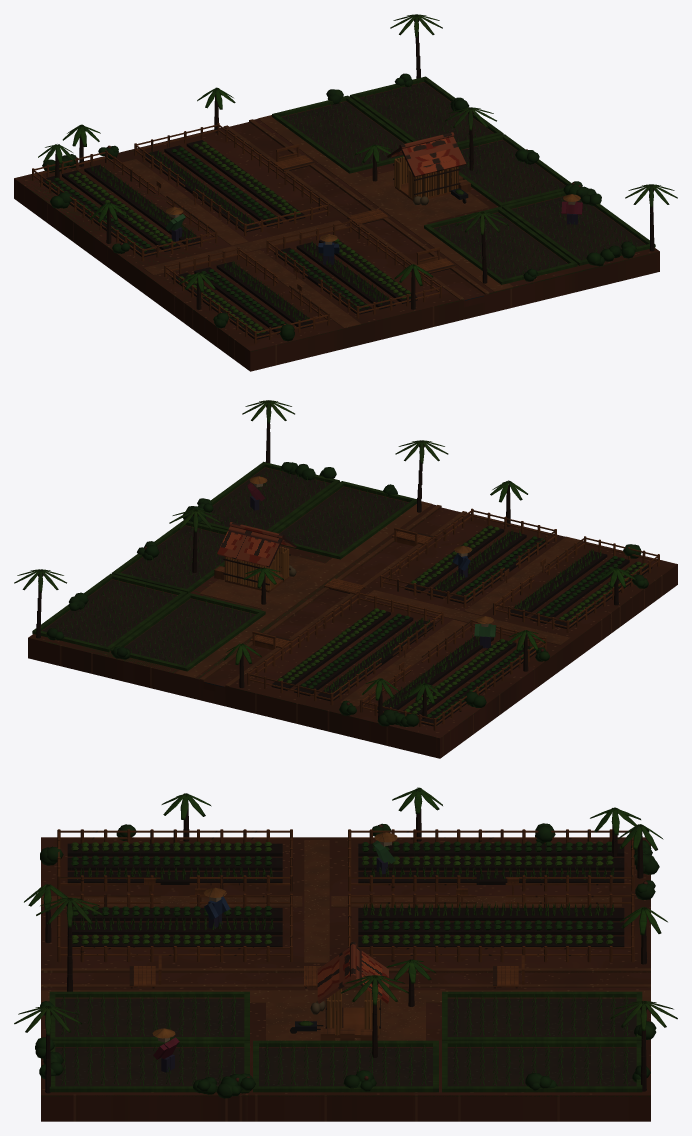
The model's file is Lahan.fbx.
3 views of the same model, one above another, from view 1: azimuth 30°, elevation 25°; view 2: azimuth 150°, elevation 25°; view 3: azimuth 270°, elevation 25° (orthographic). The views are drawn at different scales.
Parts seen in each view (by area): view 1: L_BaseW.001, L_BaseE.001, L_Paddy3.001, L_Paddy0.001, L_Paddy1.001, L_Paddy4.001, L_Paddy2.001, L_CanalBed.001, L_Bushes.001, L_PathMain.001, L_GardenNE_Fence.001, L_GardenNW_Fence.001 (+34 smaller); view 2: L_BaseW.001, L_BaseE.001, L_Paddy0.001, L_Paddy3.001, L_Paddy1.001, L_Paddy4.001, L_Paddy2.001, L_CanalBed.001, L_Bushes.001, L_PathMain.001, L_GardenNE_Fence.001, L_GardenSE_Fence.001 (+32 smaller); view 3: L_BaseW.001, L_BaseE.001, L_Paddy1.001, L_Paddy0.001, L_Paddy3.001, L_Paddy2.001, L_Paddy4.001, L_CanalBed.001, L_Bushes.001, L_GardenNE_Bed0.001, L_HutYard.001, L_GardenNW_Fence.001 (+45 smaller).
Boxes of the visible parts, x1,y1,x2,y2 form: L_BaseW.001: (14, 127, 463, 371); L_BaseE.001: (249, 82, 659, 314); L_Paddy3.001: (424, 207, 577, 284); L_Paddy0.001: (272, 95, 411, 173); L_Paddy1.001: (350, 76, 503, 145); L_Paddy4.001: (502, 191, 655, 265); L_Paddy2.001: (458, 134, 571, 207); L_CanalBed.001: (229, 122, 485, 307); L_Bushes.001: (42, 73, 636, 341); L_PathMain.001: (257, 115, 513, 291); L_GardenNE_Fence.001: (134, 123, 329, 236); L_GardenNW_Fence.001: (32, 150, 217, 261); L_BaseW.001: (225, 512, 677, 758); L_BaseE.001: (28, 467, 441, 700); L_Paddy0.001: (111, 593, 265, 671); L_Paddy3.001: (272, 481, 416, 559); L_Paddy1.001: (32, 573, 186, 652); L_Paddy4.001: (199, 461, 339, 531); L_Paddy2.001: (111, 520, 227, 593); L_CanalBed.001: (203, 507, 460, 693); L_Bushes.001: (46, 462, 648, 726); L_PathMain.001: (175, 501, 432, 678); L_GardenNE_Fence.001: (247, 591, 443, 705); L_GardenSE_Fence.001: (380, 508, 556, 607); L_BaseW.001: (41, 837, 650, 972); L_BaseE.001: (41, 987, 650, 1121); L_Paddy1.001: (442, 1040, 642, 1092); L_Paddy0.001: (442, 991, 642, 1040); L_Paddy3.001: (49, 991, 249, 1040); L_Paddy2.001: (253, 1040, 438, 1092); L_Paddy4.001: (49, 1040, 249, 1092); L_CanalBed.001: (41, 973, 650, 984); L_Bushes.001: (35, 823, 659, 1098); L_GardenNE_Bed0.001: (358, 902, 624, 921); L_HutYard.001: (266, 999, 425, 1040); L_GardenNW_Fence.001: (348, 829, 634, 891).
Size of the model in its own units: 90.09 by 18.03 by 91.41.
Materials: 28 (28 with a texture image).
